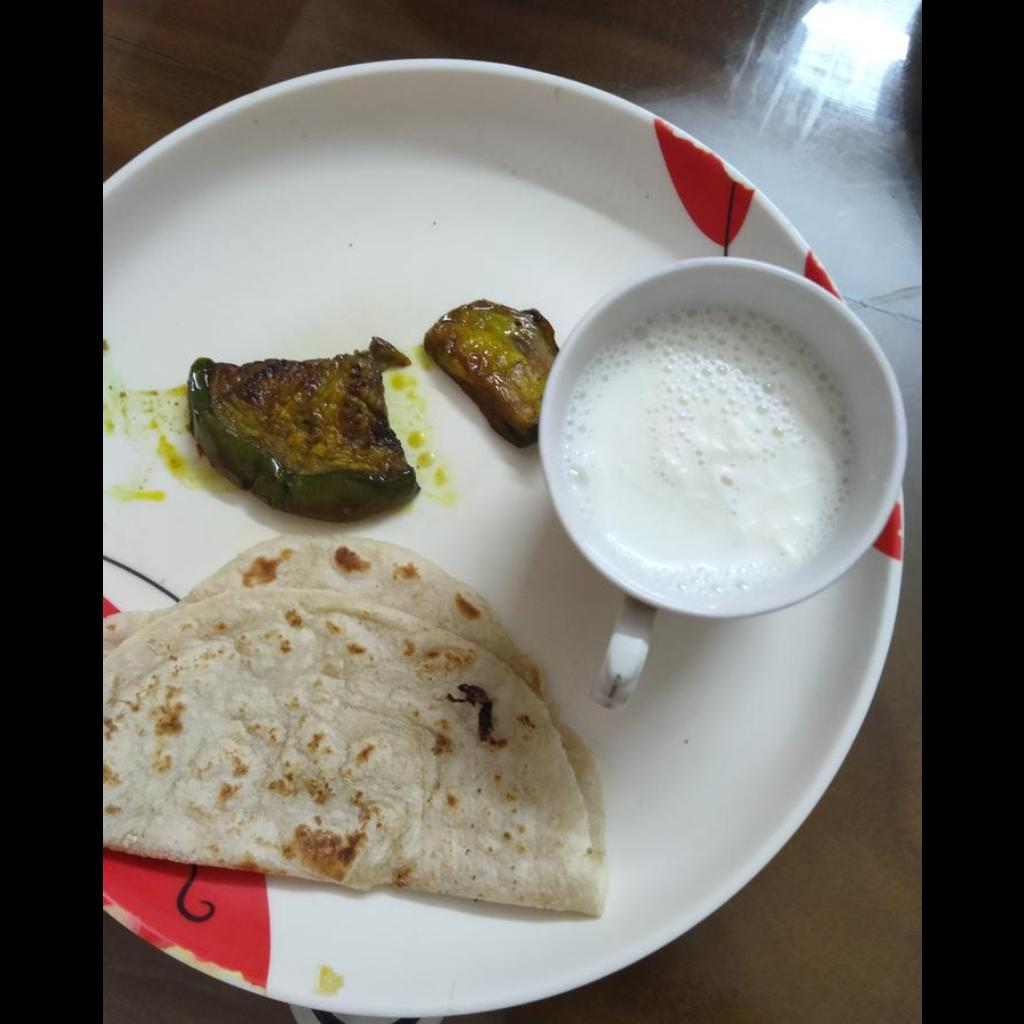begun-vaji: (189, 303, 557, 517)
milk: (564, 312, 852, 589)
ruti: (102, 537, 609, 915)
